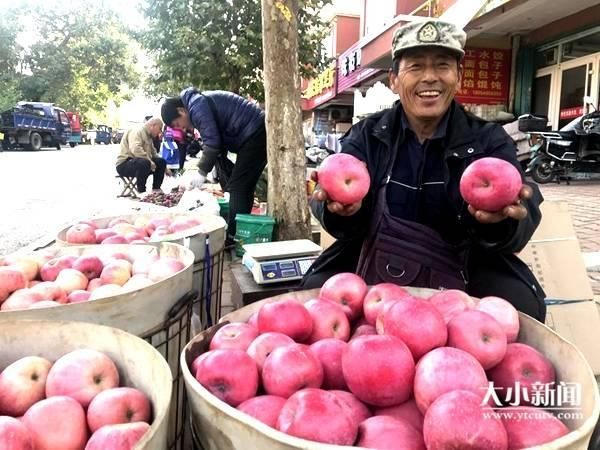apple: (342, 335, 415, 408), (415, 347, 493, 413), (425, 389, 507, 450), (277, 388, 358, 448), (486, 342, 555, 408), (44, 347, 119, 407), (192, 348, 259, 405), (385, 298, 449, 357), (445, 311, 506, 370), (261, 344, 325, 399), (459, 157, 521, 211), (83, 386, 154, 432), (1, 355, 51, 414), (315, 153, 369, 205), (255, 298, 315, 342), (318, 272, 368, 319), (364, 283, 410, 329), (474, 294, 519, 341), (305, 299, 351, 344), (211, 322, 261, 351), (1, 266, 29, 301), (98, 260, 131, 286), (38, 256, 70, 282), (69, 255, 102, 277), (64, 223, 96, 245)
